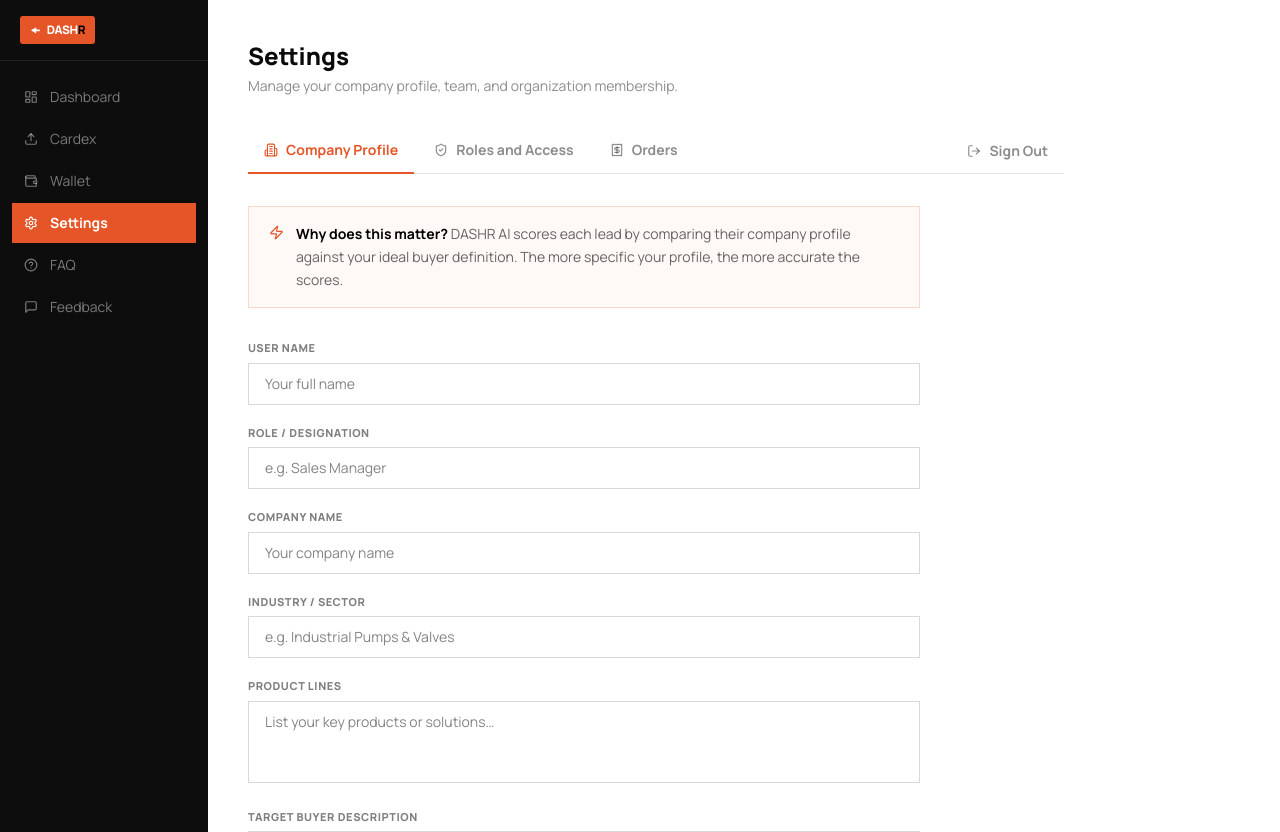
Scenario: /settings -- admin view › deactivates a member after confirmation, and reactivate becomes available
Step 1. Click the button "Roles and Access" → [504, 151], box [418,128,590,174]
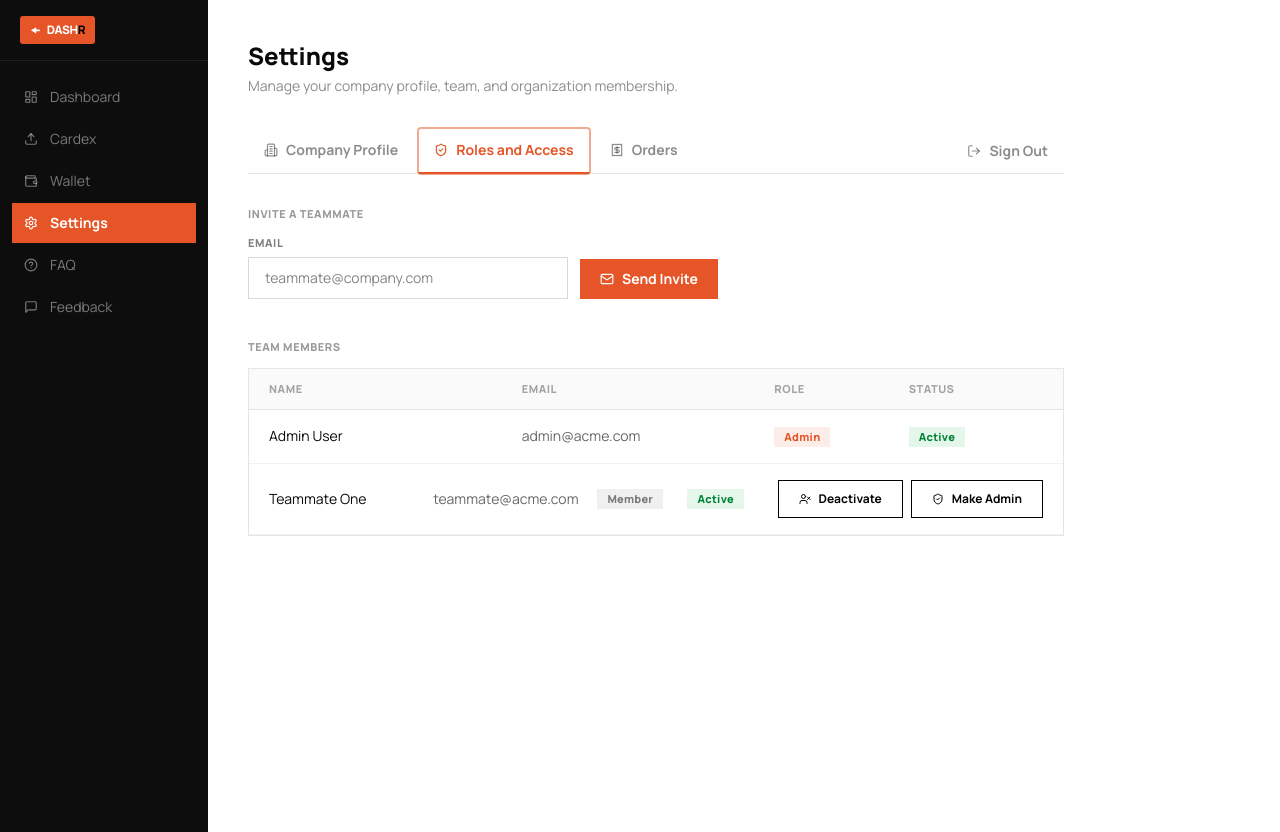
Now the text "Teammate One" is shown, box [269,489,366,508]
Step 2. Click the button "Deactivate" → [840, 499], box [778,480,903,518]
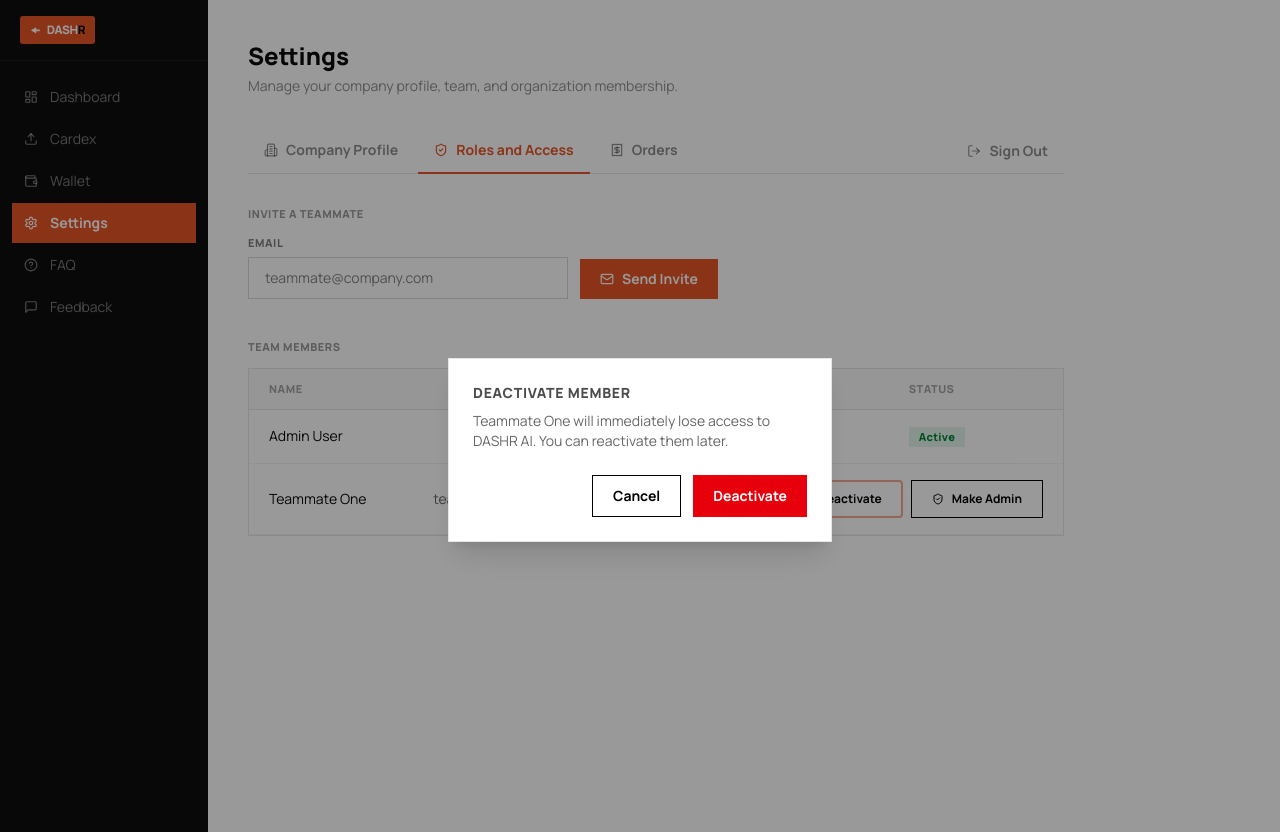
Step 3. Click the button "Deactivate" → [750, 496], box [693,475,807,517]
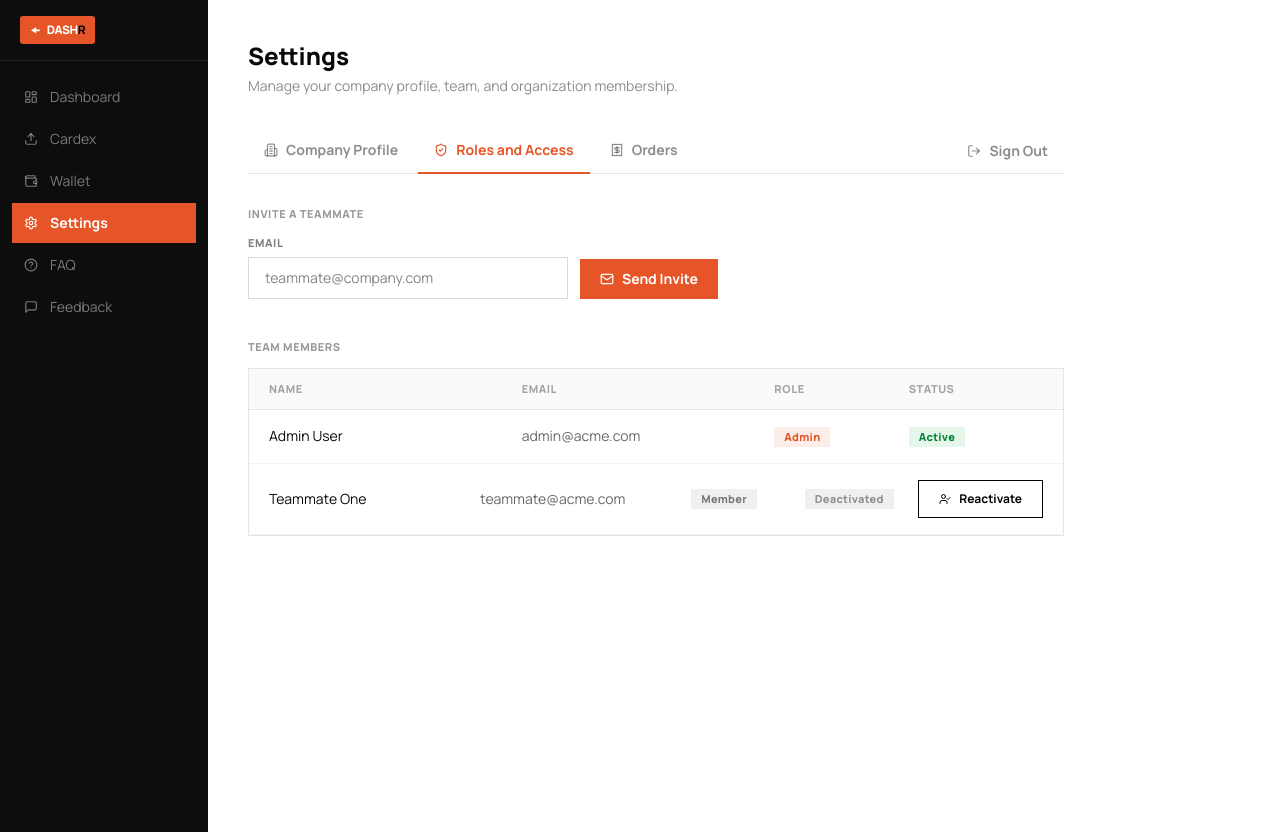
Now the button "Reactivate" is shown, box [918,480,1043,518]
